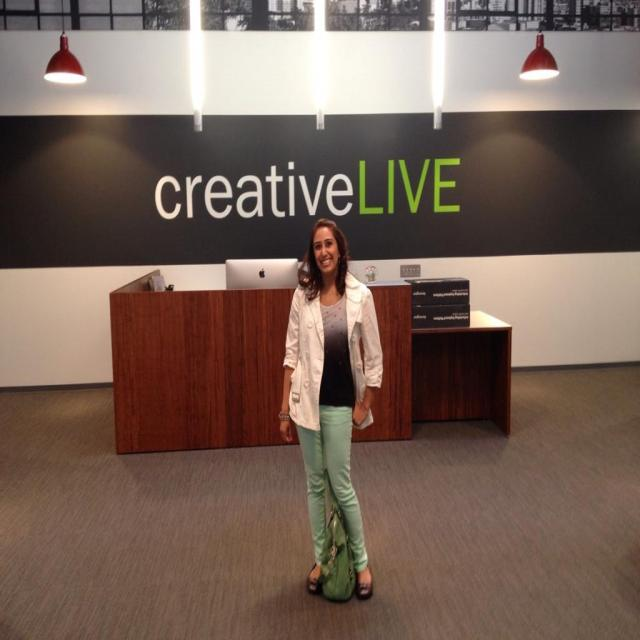nomask: (313, 226, 337, 272)
